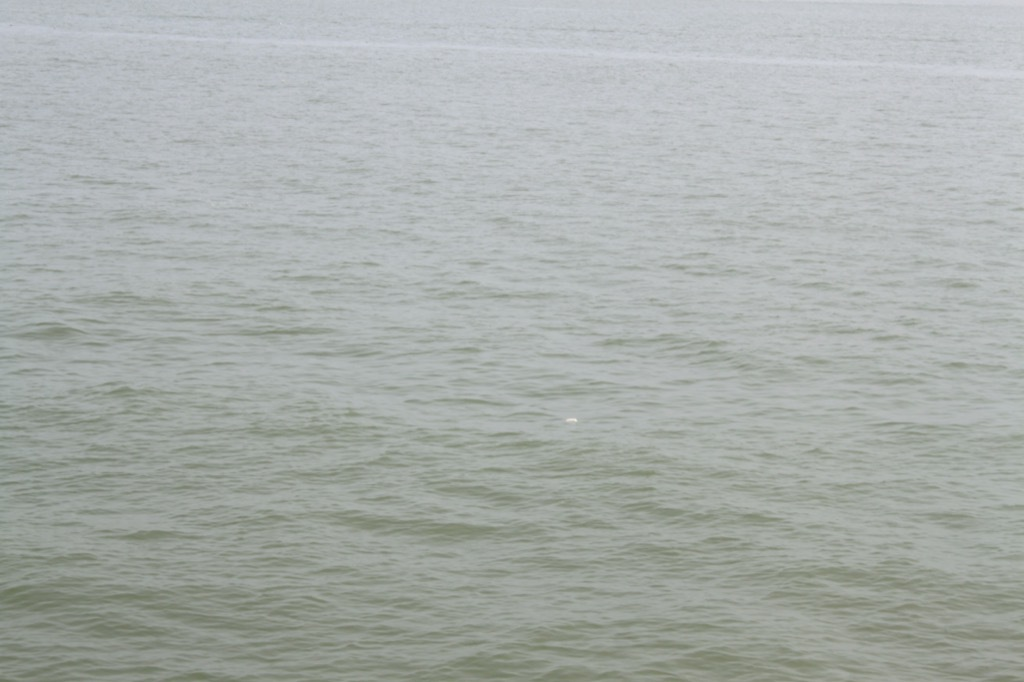plastic: (556, 404, 588, 440)
